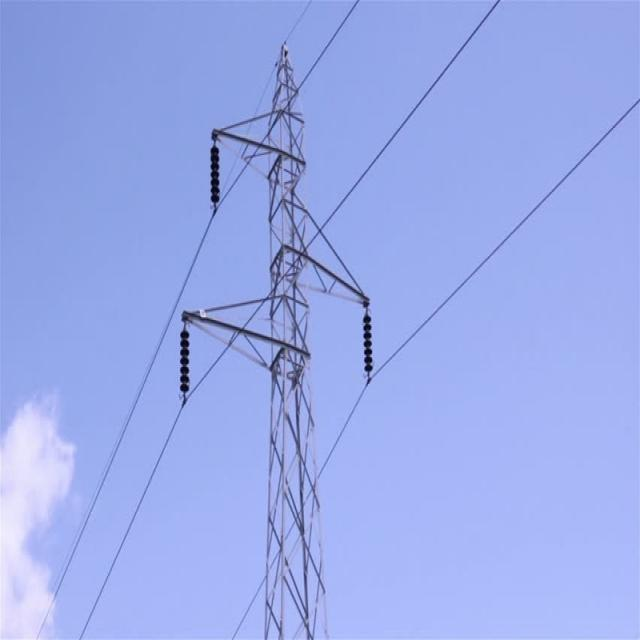non-critical vegetation: (182, 41, 378, 630)
